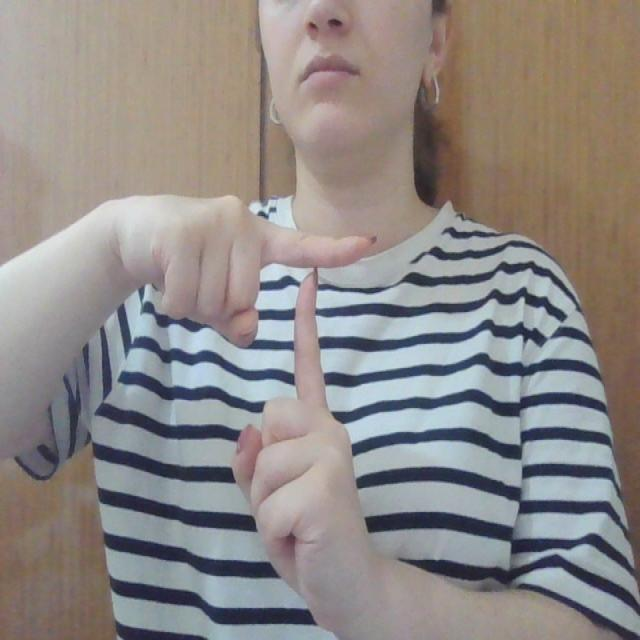Tesekkurler: (248, 190, 378, 436)
